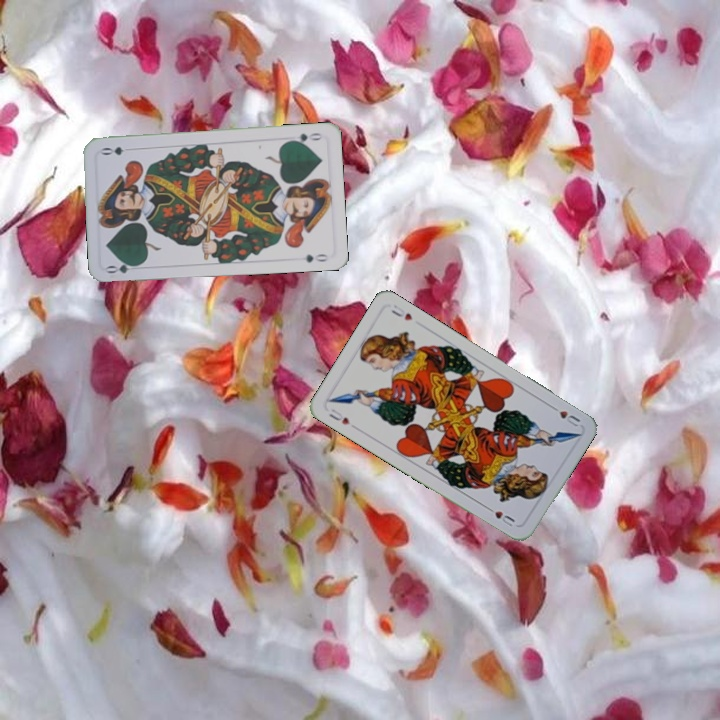GO: (103, 258, 144, 276), (285, 129, 325, 146)
HU: (546, 401, 583, 429), (325, 405, 353, 427)
